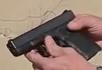gun: (1, 1, 102, 70)
